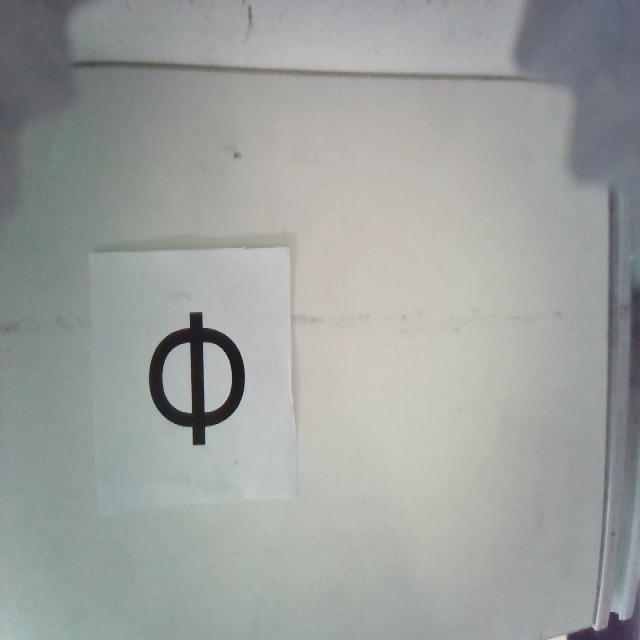F: (148, 312, 247, 441)
